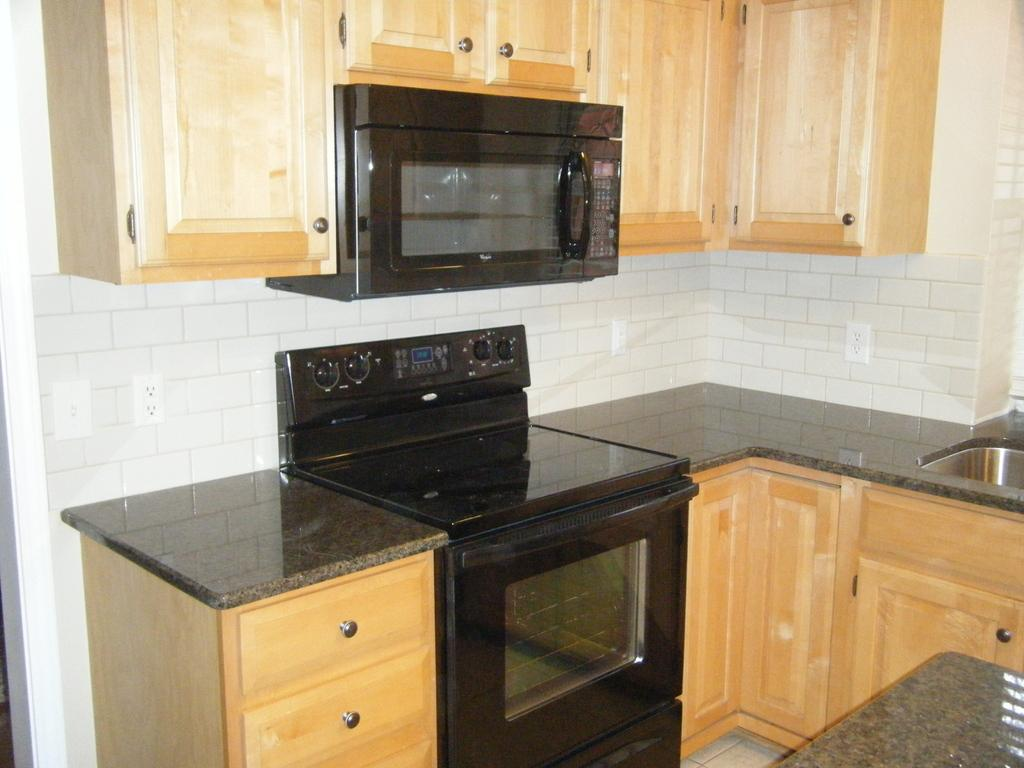cabinet_door: (134, 10, 332, 260), (592, 15, 710, 224), (745, 39, 865, 243), (750, 482, 822, 717), (865, 574, 1017, 669), (262, 682, 422, 758), (247, 595, 412, 660), (487, 8, 591, 84), (370, 15, 484, 76)
handle: (339, 612, 364, 639), (991, 626, 1016, 650), (342, 707, 360, 733), (311, 210, 332, 232), (454, 31, 474, 54), (499, 38, 515, 63), (842, 208, 860, 229)
